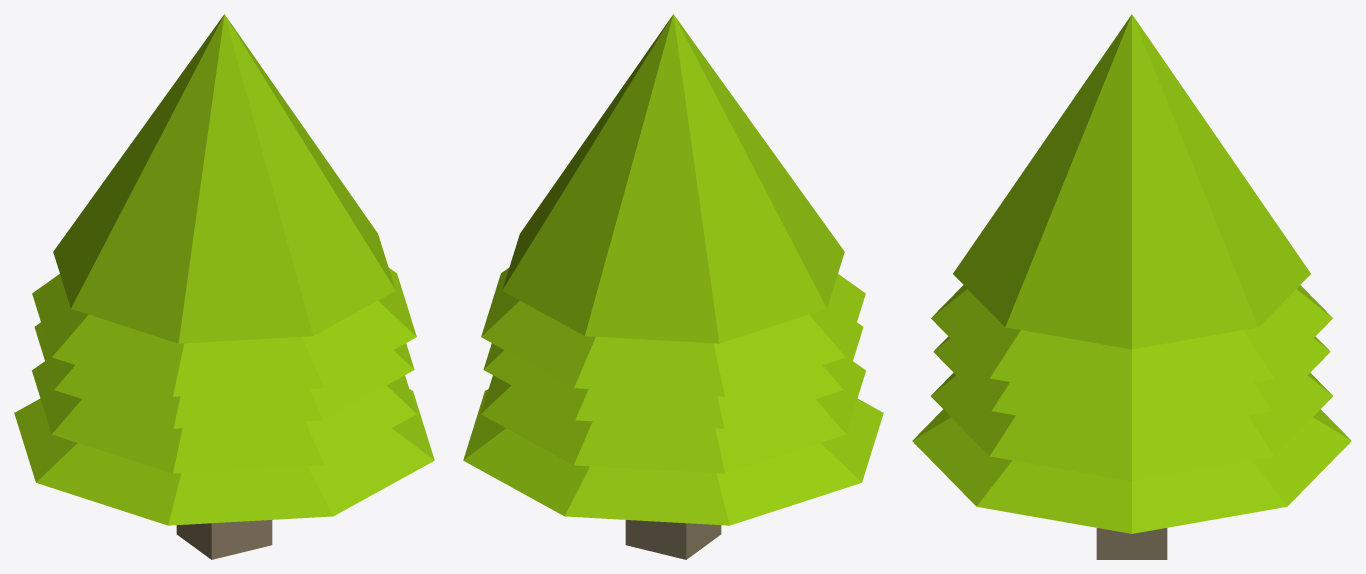
File: pine_4.fbx
3 renders of one model, left to right at view 1: azimuth 30°, elevation 25°; view 2: azimuth 150°, elevation 25°; view 3: azimuth 270°, elevation 25°, orthographic.
Visible parts, largest first — view 1: pine_4; view 2: pine_4; view 3: pine_4.
Part boxes in pixels (x1,y1,x2,y2): pine_4: [14, 14, 434, 559]; pine_4: [463, 14, 883, 559]; pine_4: [912, 14, 1351, 559].
Bounding box in the file's own units: 138 × 183 × 138.
